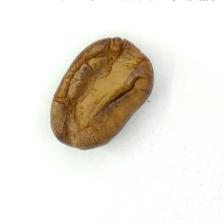NG: (60, 37, 144, 140)
